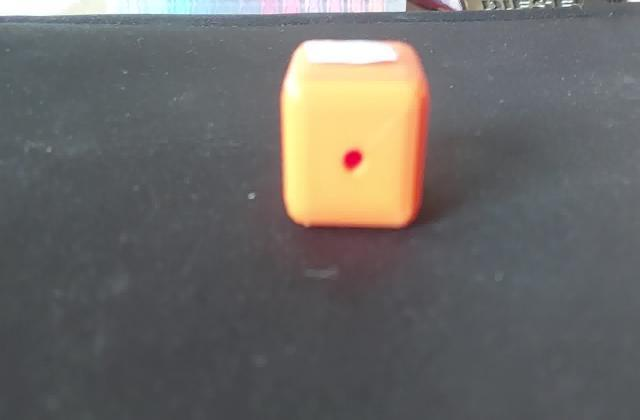cube: (276, 37, 431, 237)
white: (303, 40, 403, 70)
